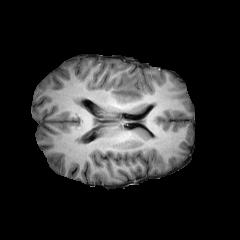glioma: (109, 71, 157, 131)
